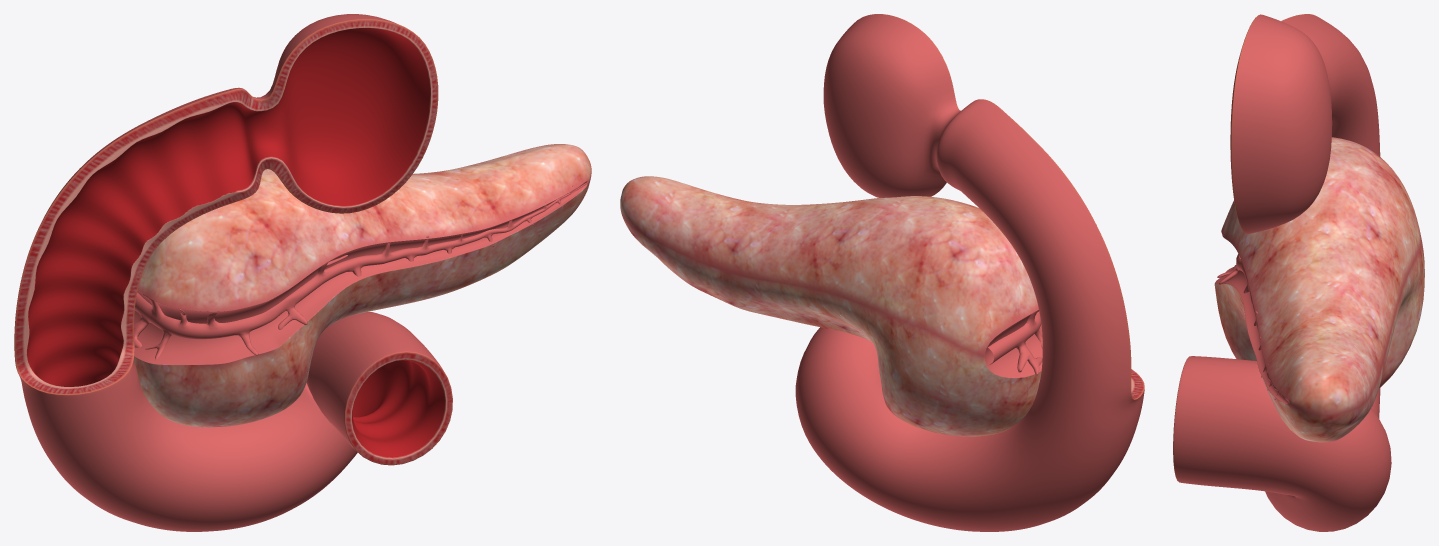
The model's file is pancreas.glb.
3 views of the same model, side by side, from view 1: azimuth 30°, elevation 25°; view 2: azimuth 150°, elevation 25°; view 3: azimuth 270°, elevation 25° (orthographic). The views are drawn at different scales.
Visible parts, largest first — view 1: pCube3, polySurface1, sweep1; view 2: pCube3, polySurface1, sweep1; view 3: pCube3, polySurface1, sweep1.
Boxes of the visible parts, bbox=[...] form: pCube3: bbox=[14, 14, 452, 531]; polySurface1: bbox=[134, 144, 591, 427]; sweep1: bbox=[134, 182, 588, 359]; pCube3: bbox=[795, 14, 1144, 531]; polySurface1: bbox=[620, 176, 1042, 436]; sweep1: bbox=[988, 310, 1042, 375]; pCube3: bbox=[1173, 14, 1391, 531]; polySurface1: bbox=[1214, 137, 1424, 442]; sweep1: bbox=[1217, 253, 1289, 403].
Size of the model in its own units: 0.1967 by 0.1682 by 0.0726.
1 material, 1 textured.
